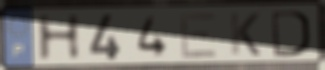4: (87, 12, 125, 63), (136, 13, 170, 59)
D: (270, 9, 313, 58)
E: (177, 10, 220, 60)
H: (34, 12, 84, 64)
K: (228, 11, 263, 58)
